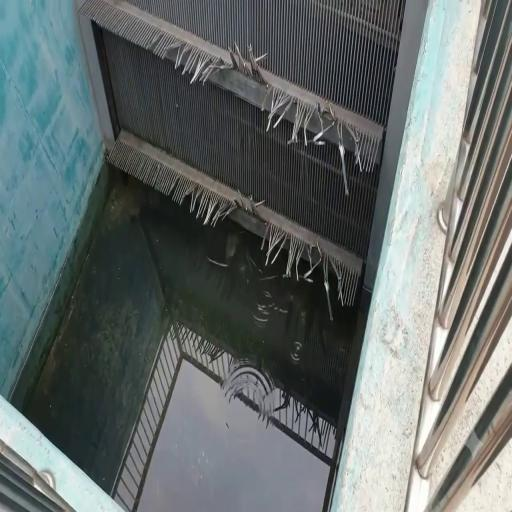rake_broken: (222, 38, 265, 97), (280, 229, 319, 292), (288, 90, 316, 166), (317, 241, 346, 314), (338, 124, 368, 185), (164, 28, 192, 89), (253, 77, 284, 131), (260, 208, 286, 268), (314, 100, 339, 158), (220, 190, 262, 224), (184, 38, 209, 94), (161, 170, 196, 208), (204, 37, 230, 85), (194, 186, 222, 229), (148, 30, 169, 68)
